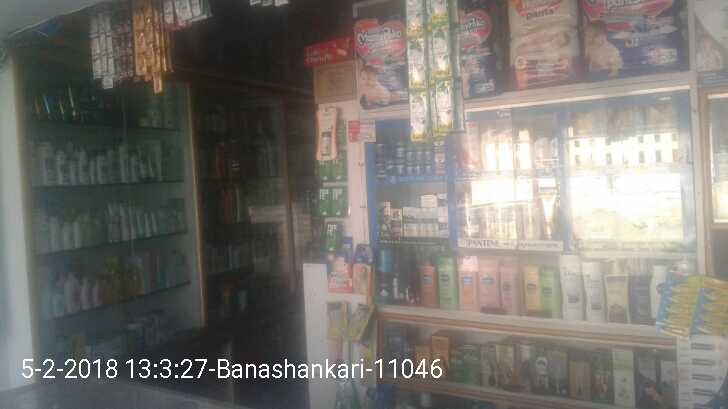beauty: (389, 207, 403, 238), (403, 206, 417, 235), (435, 193, 450, 218), (417, 208, 427, 236), (438, 216, 450, 239), (427, 208, 436, 237)
pharmacy: (394, 139, 406, 160), (422, 145, 434, 162)
